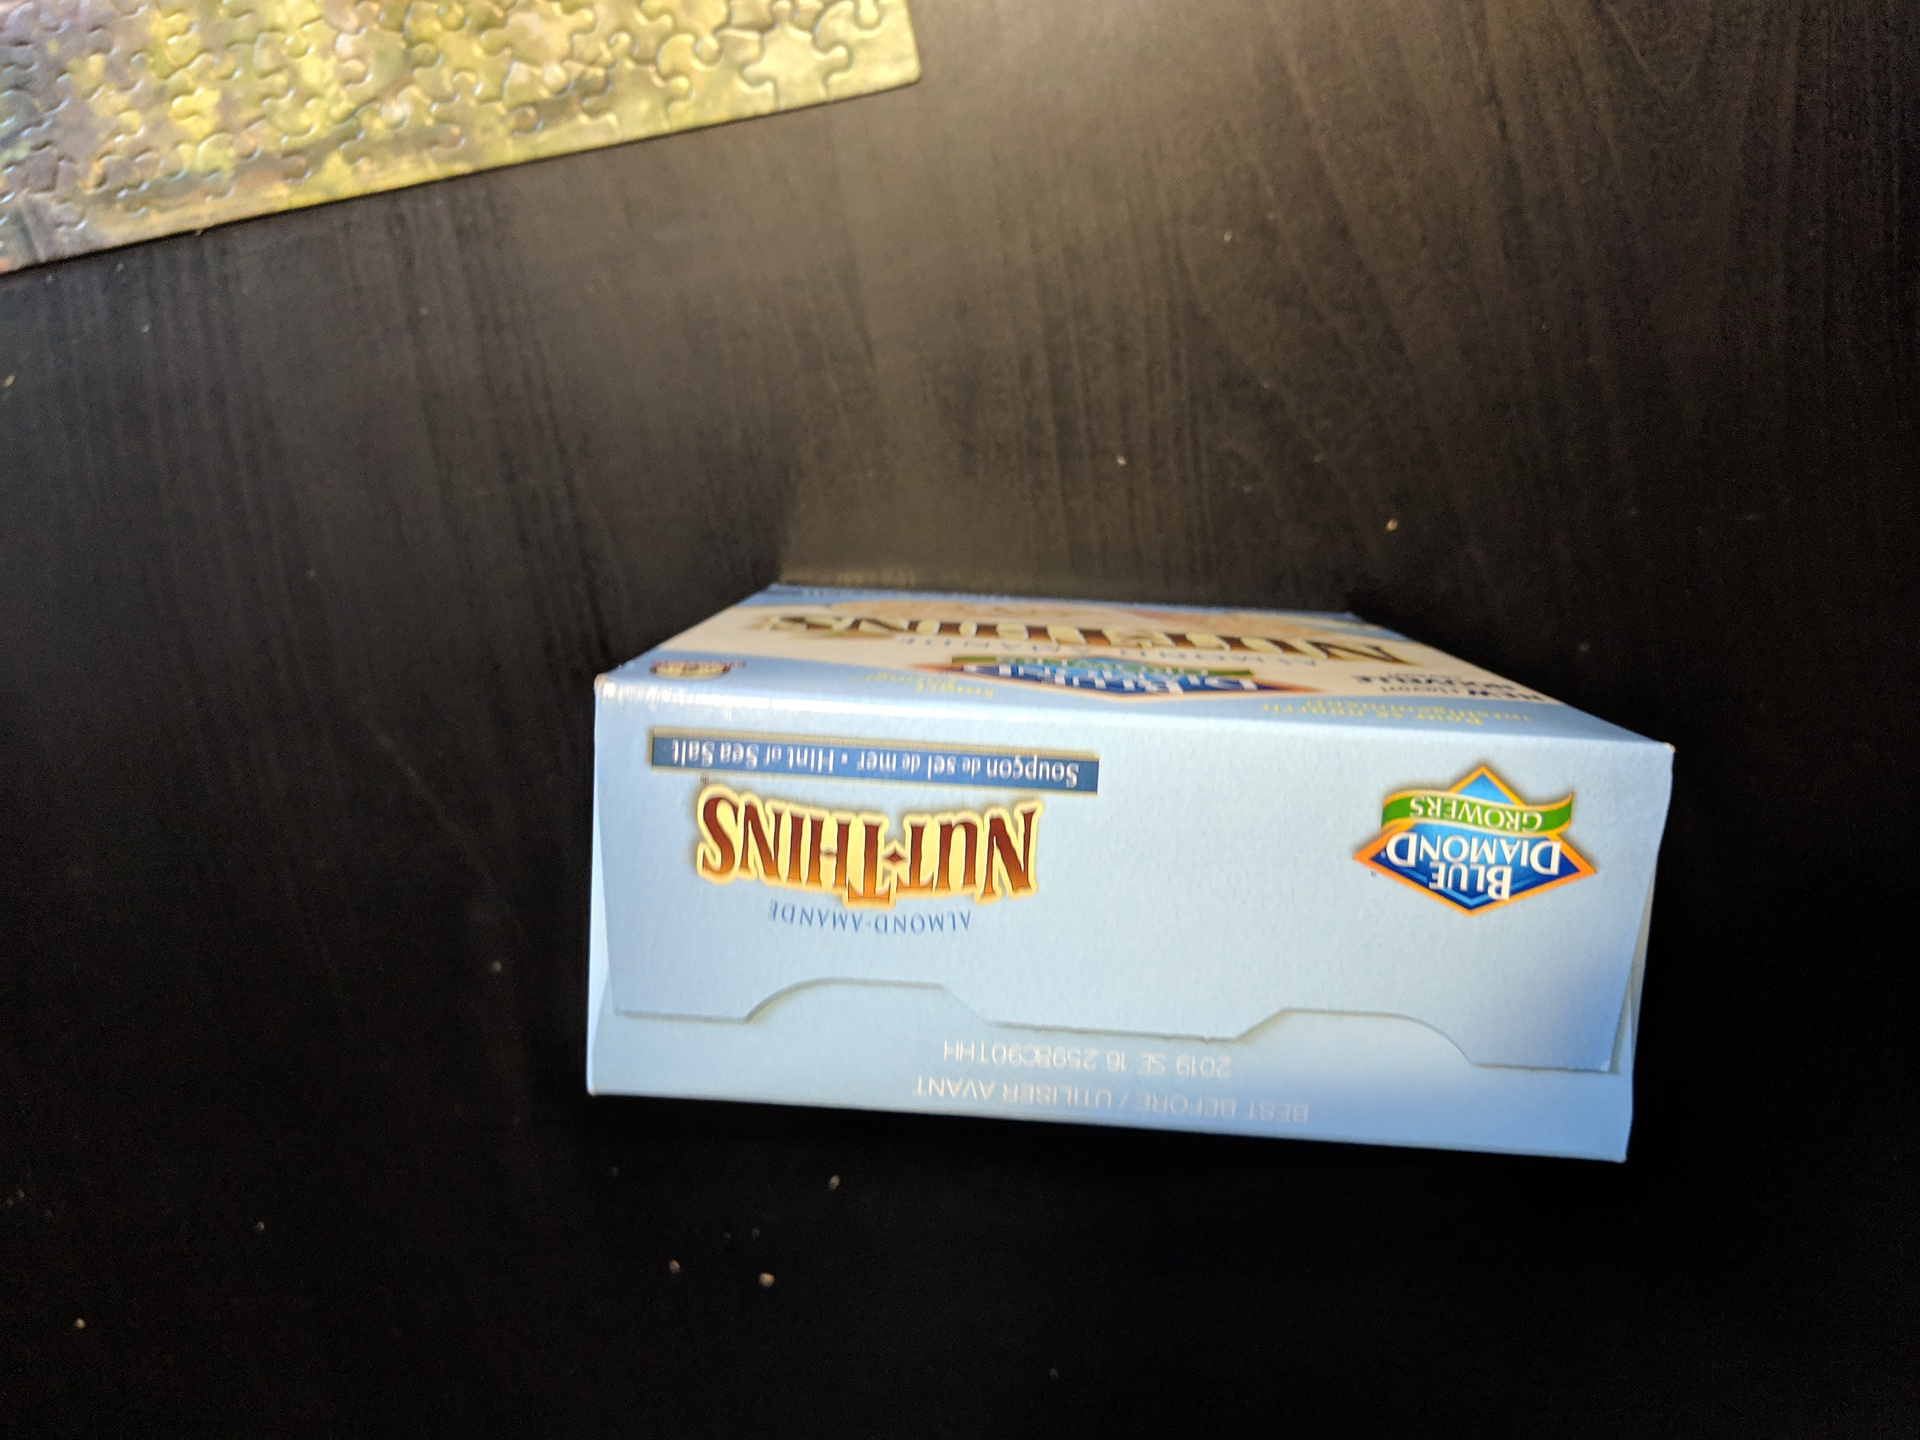blue_diamond_nut_thins_almond_seasalt: (593, 579, 1643, 1159)
